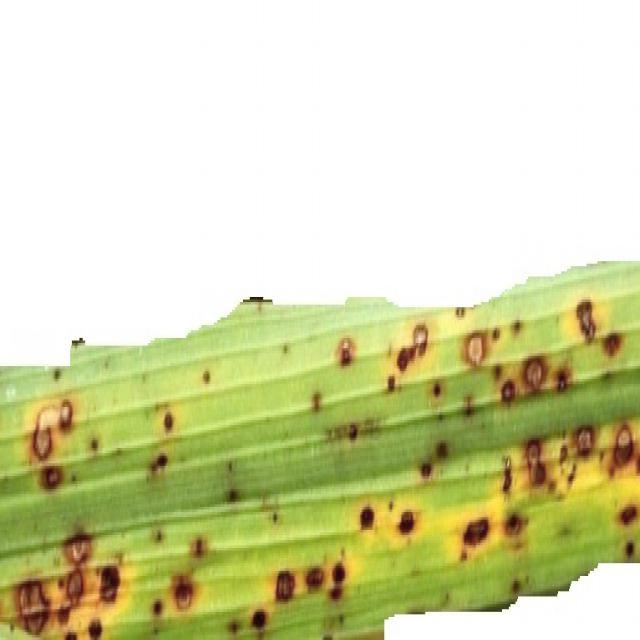Brownspot: (17, 580, 48, 634), (525, 439, 546, 485), (522, 356, 547, 391), (64, 532, 91, 564), (613, 424, 633, 466), (463, 331, 486, 366), (576, 299, 595, 341), (172, 576, 194, 611), (100, 565, 120, 602), (463, 517, 489, 545), (32, 426, 51, 460), (574, 426, 594, 457), (275, 570, 294, 601), (67, 569, 83, 605), (40, 465, 62, 490), (504, 513, 526, 536), (337, 337, 354, 366), (413, 324, 427, 355), (305, 566, 323, 590), (396, 347, 414, 371), (603, 332, 621, 356), (59, 400, 72, 431), (618, 504, 637, 525), (398, 510, 414, 534), (190, 536, 207, 558), (555, 367, 570, 391), (360, 506, 375, 530), (502, 457, 512, 493), (150, 453, 167, 473), (501, 379, 515, 403), (251, 609, 267, 630), (332, 562, 346, 584), (88, 618, 102, 639), (57, 604, 70, 625), (436, 441, 449, 459), (420, 461, 433, 479), (329, 585, 343, 601), (163, 411, 173, 432), (463, 395, 473, 416), (226, 488, 239, 502), (312, 391, 321, 411), (511, 579, 522, 595), (152, 599, 162, 616), (228, 619, 239, 634), (625, 541, 634, 558), (493, 364, 502, 381), (559, 444, 567, 463), (511, 319, 521, 334), (432, 381, 441, 397), (153, 528, 163, 542), (349, 423, 357, 440), (90, 437, 99, 452), (387, 375, 395, 391), (492, 327, 501, 341), (455, 307, 466, 318), (202, 370, 210, 385), (64, 631, 77, 639), (53, 368, 61, 380)
